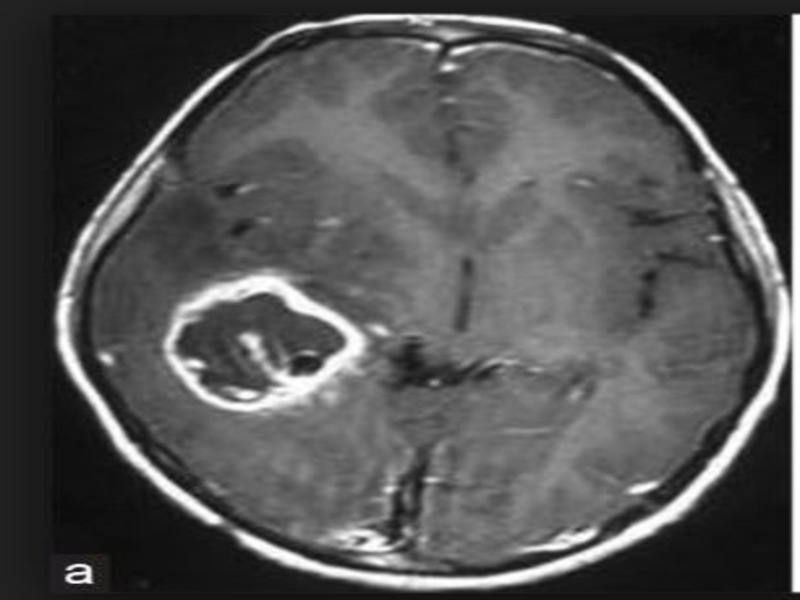tumor: (158, 270, 372, 426)
